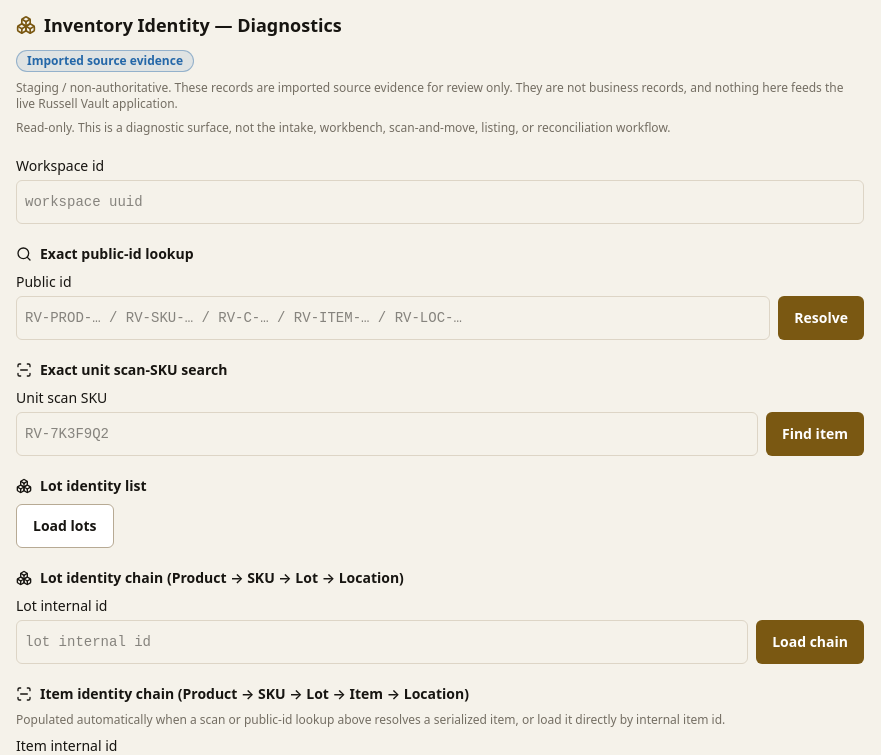
Test: InventoryIdentity — preserved behaviour › loads a lot identity chain and renders the same grains and capacity
Type "11111111-1111-4111-8111-111111111111" into the field labelled "Workspace id" at (440, 202), box [16,180,864,224]
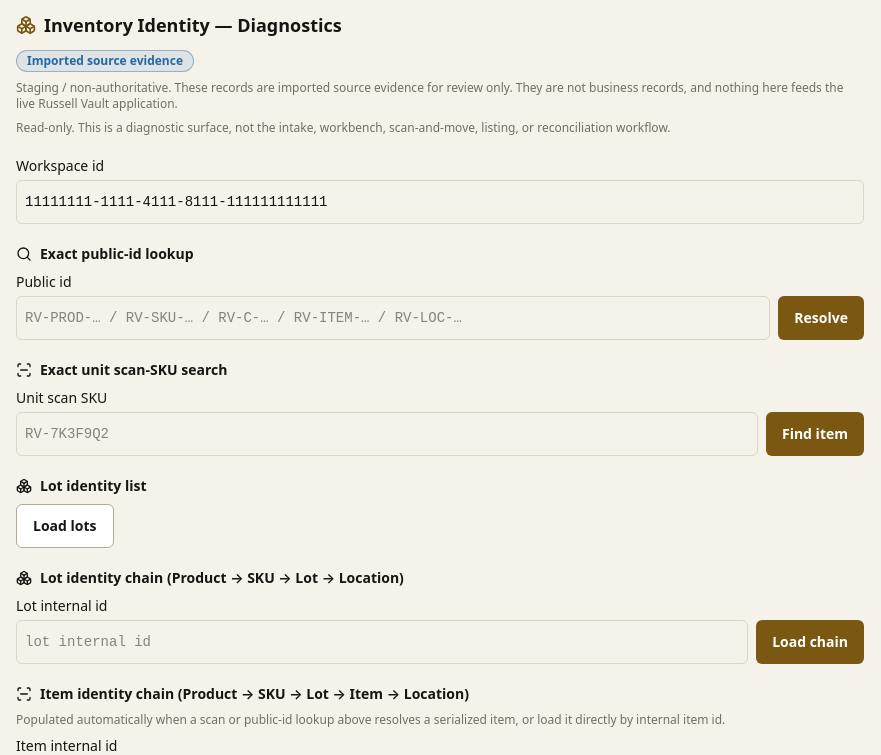
Type "l1" into the field labelled "Lot internal id" at (382, 642), box [16,620,748,664]
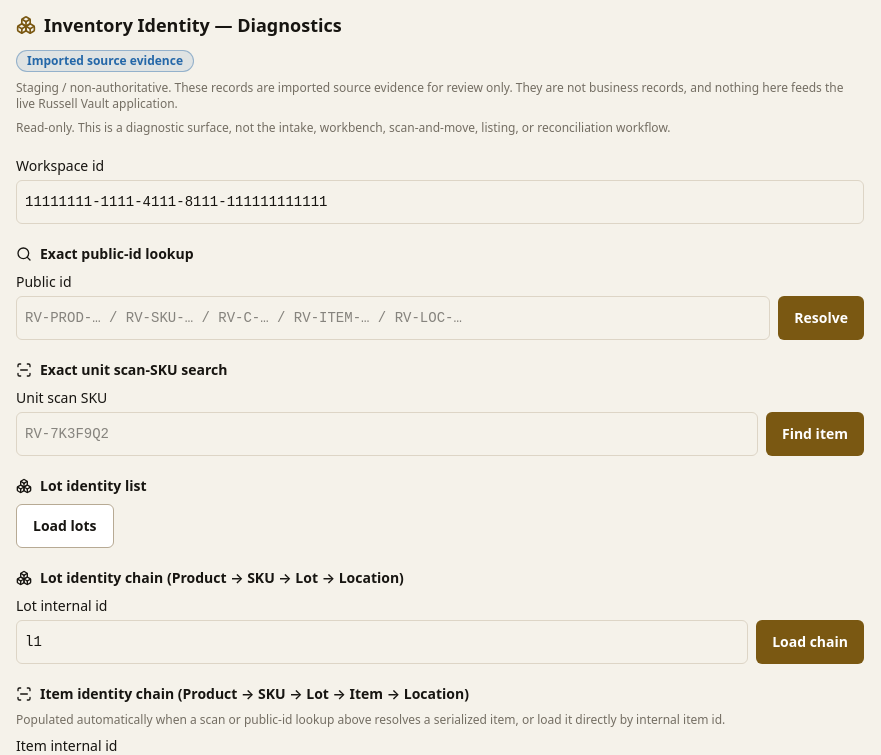
Click the button "Load chain" at (810, 642), box [756,620,864,664]
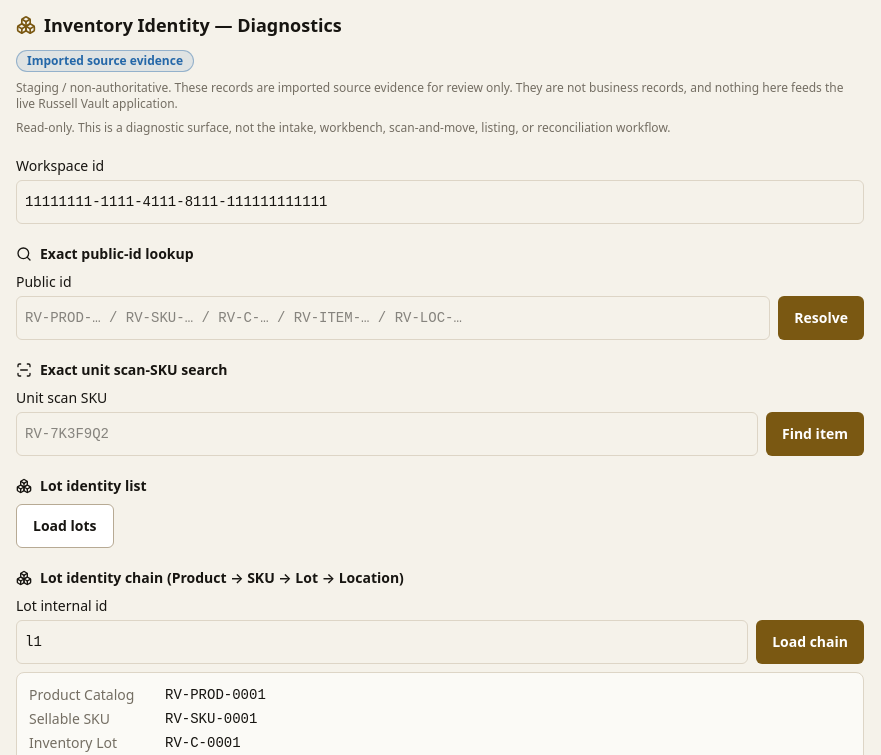
Expected: the text "Product Catalog" is shown, [29,685,134,704]
